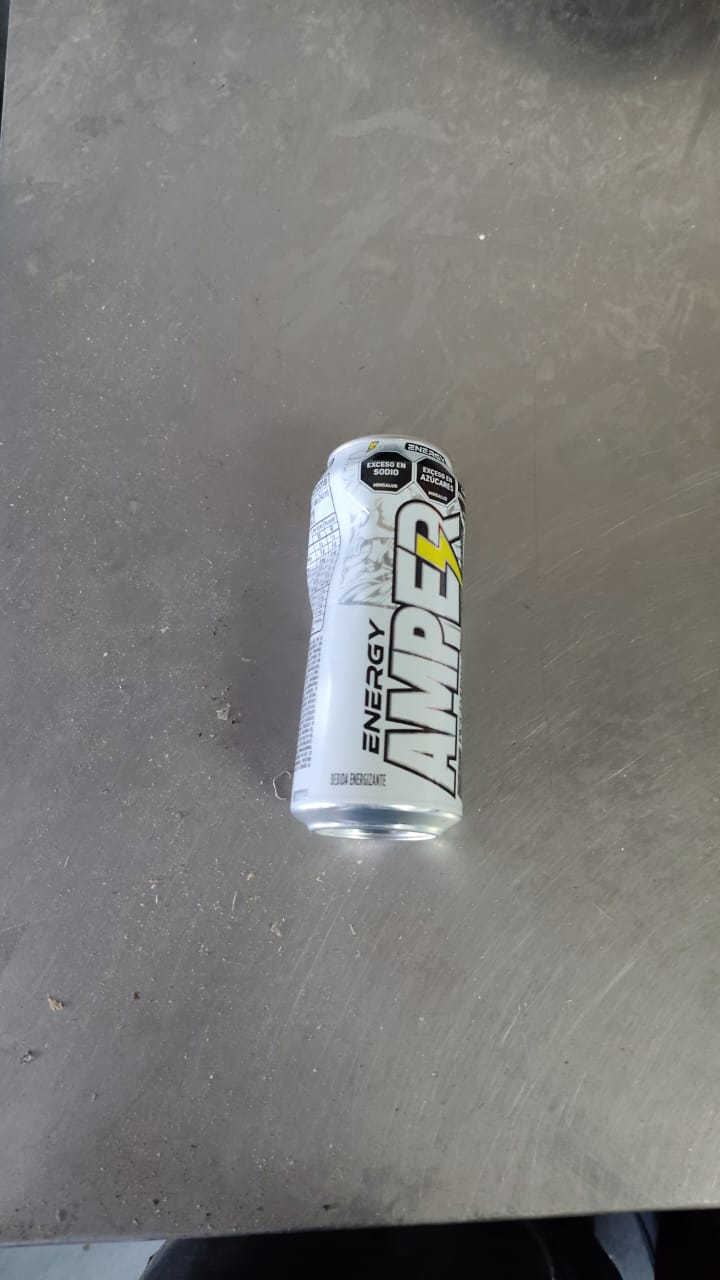Metal: (291, 439, 468, 843)
